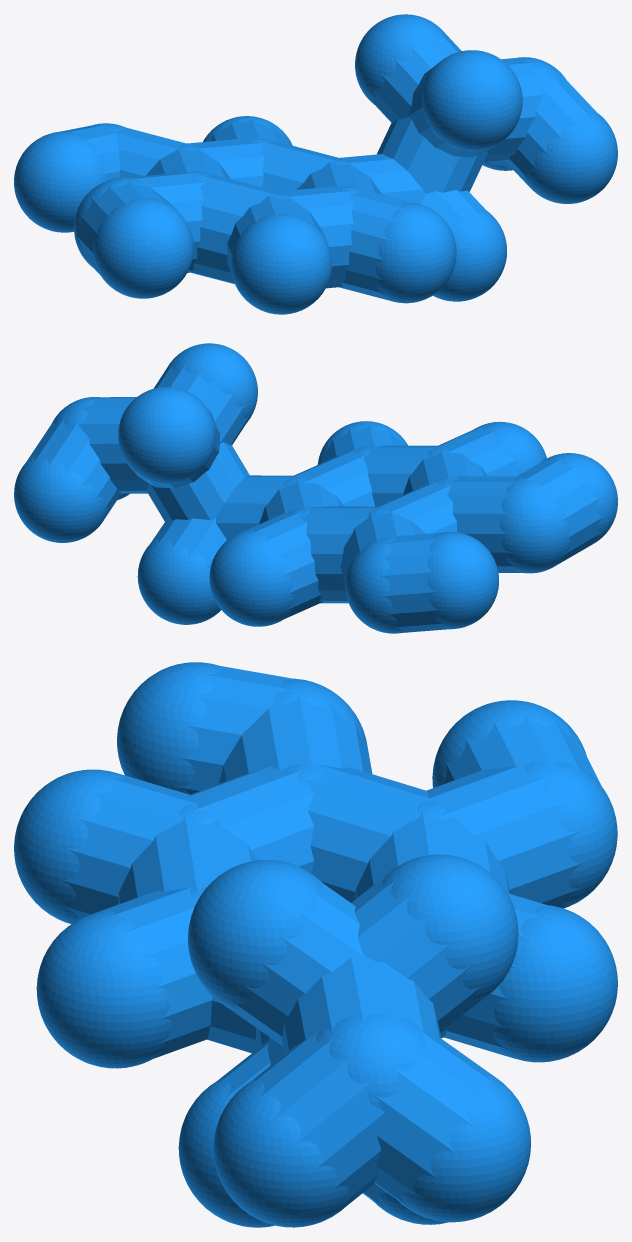
Rendered from 681-sticks-print_NIH3D-mr.glb.
3 views of the same model, one above another, from view 1: azimuth 30°, elevation 25°; view 2: azimuth 150°, elevation 25°; view 3: azimuth 270°, elevation 25° (orthographic). The views are drawn at different scales.
Visible parts, largest first — view 1: 681-sticks-print_NIH3D-mr; view 2: 681-sticks-print_NIH3D-mr; view 3: 681-sticks-print_NIH3D-mr.
Part boxes in pixels (x1,y1,x2,y2): 681-sticks-print_NIH3D-mr: [14, 14, 617, 314]; 681-sticks-print_NIH3D-mr: [14, 343, 617, 633]; 681-sticks-print_NIH3D-mr: [14, 662, 617, 1227].
Size of the model in its own units: 9.9 by 4.15 by 6.11.
